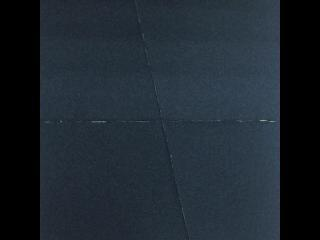crack: (126, 0, 200, 240), (40, 107, 280, 135)
